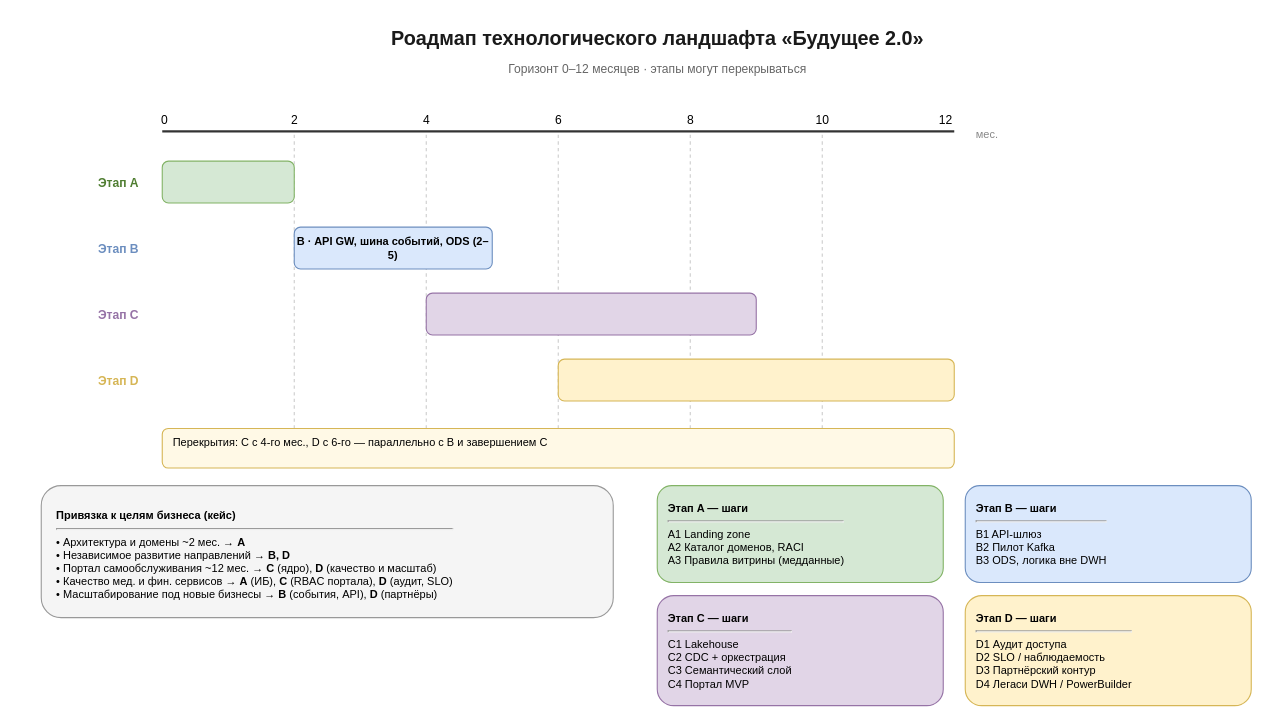
This 1271x725 diagram has some shape labels left out. The centre of each missing label's shape, as x and y in pixels:
A · Фундамент, облако, домены (0–2): pixel 227 181
C · Lakehouse, ingestion, семантика, портал MVP (4–9): pixel 590 313
D · Аудит, SLO, партнёры, снижение легаси (6–12): pixel 755 379
